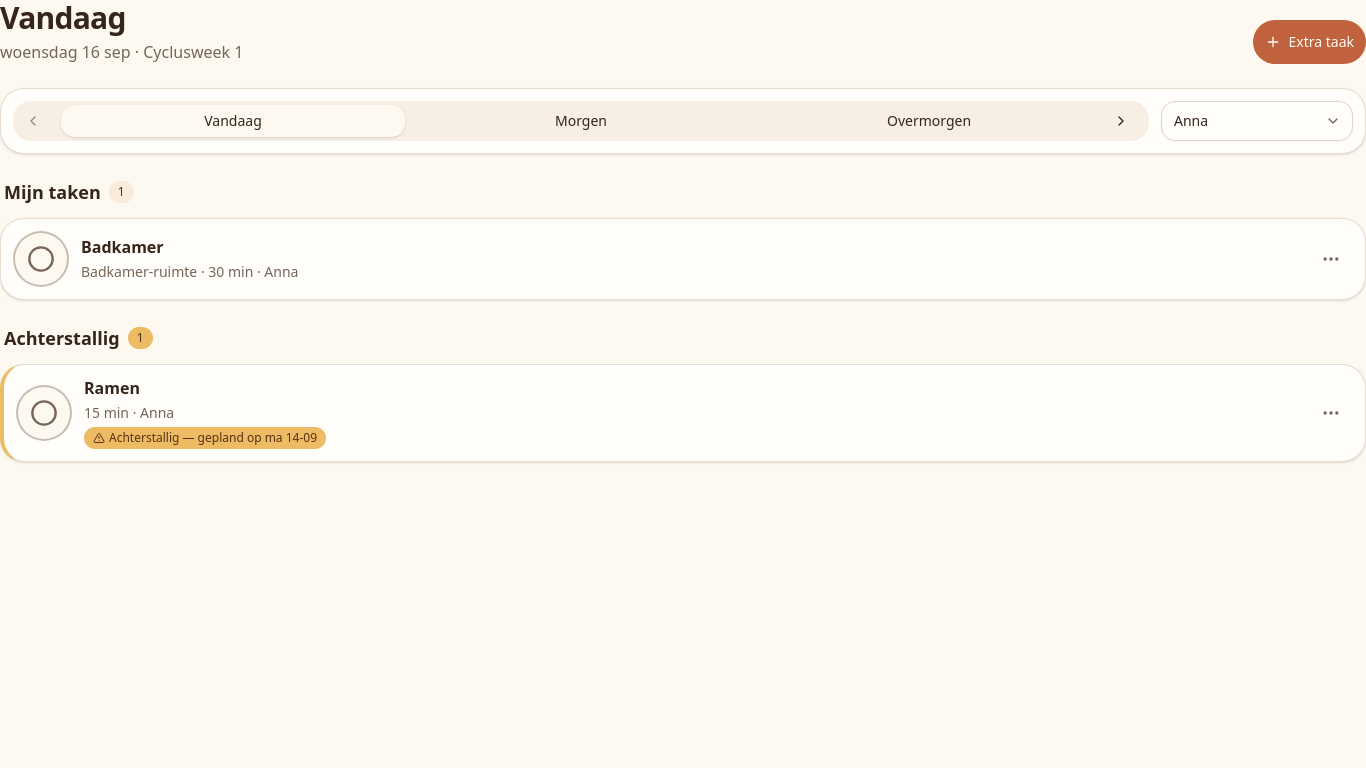
it: TodayPage › asks before checking off another person's task and can do so on their behalf
Select "Bram de Vries" in the dropdown named "Filter op persoon". click: (1257, 121)
box: [1161,101,1353,141]
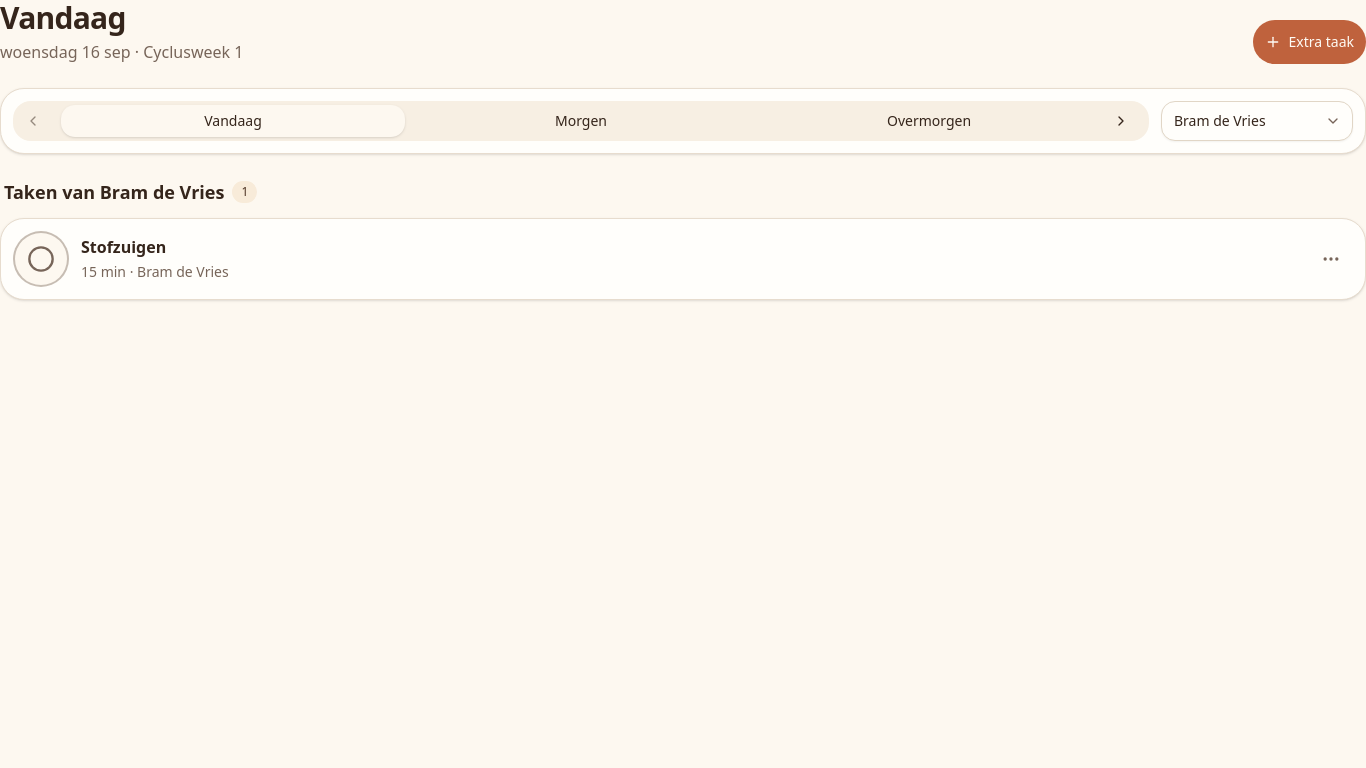
Click the button named "Afvinken: Stofzuigen". click: (41, 259)
box: [13,231,69,287]
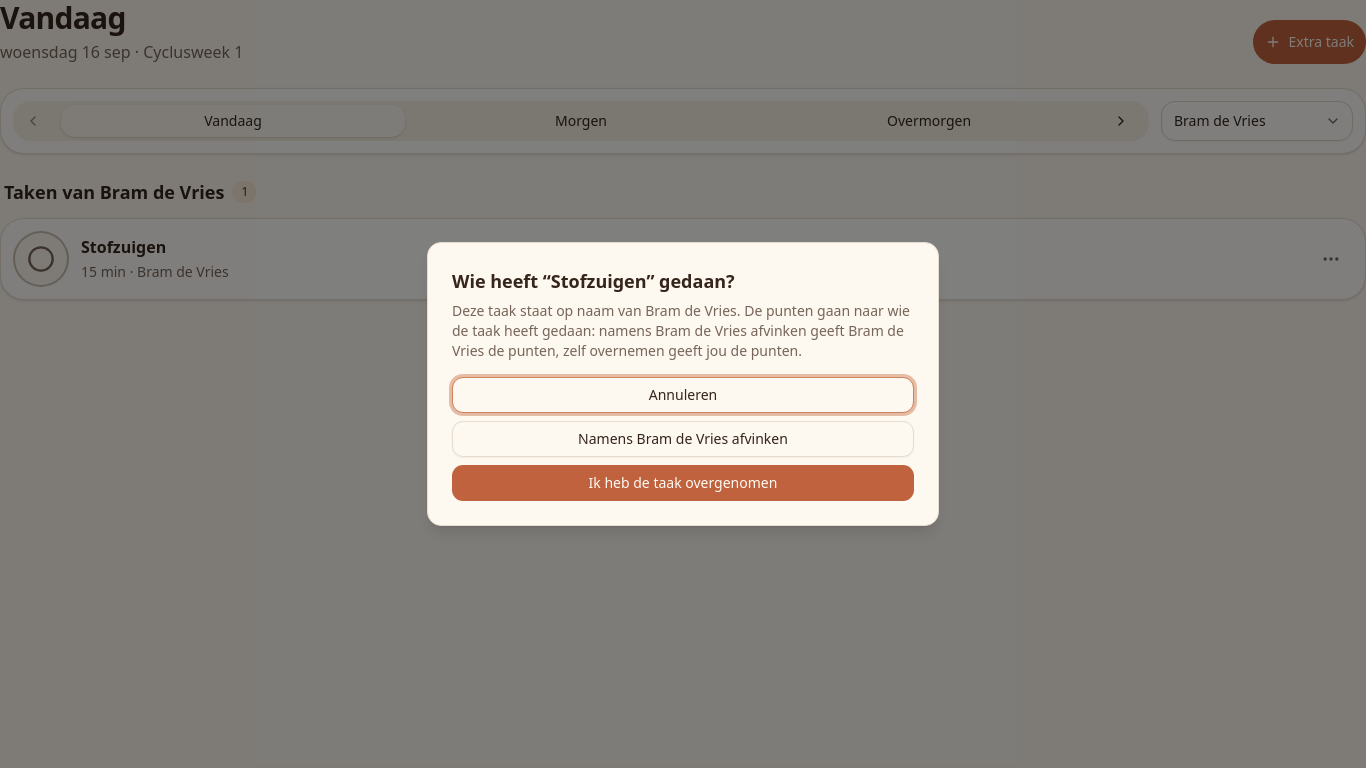
Expected: the dialog shows "Wie heeft “Stofzuigen” gedaan?", [452,269,735,293]
Expected: the dialog shows "Deze taak staat op naam van Bram de Vries", [452,301,910,360]
Click the button "Namens Bram de Vries afvinken". click: (683, 439)
box: [452,421,914,457]
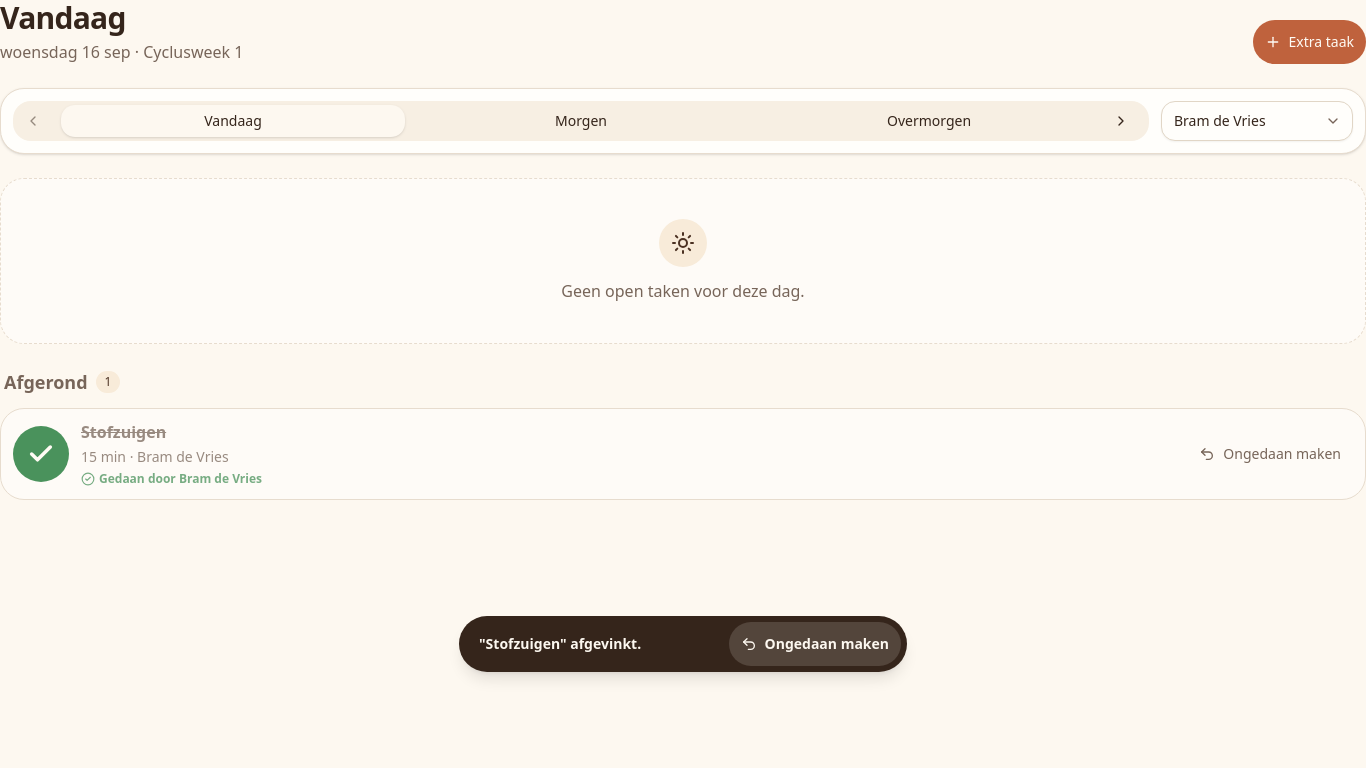
Expected: the text "Gedaan door Bram de Vries" is shown, [81,470,262,487]
